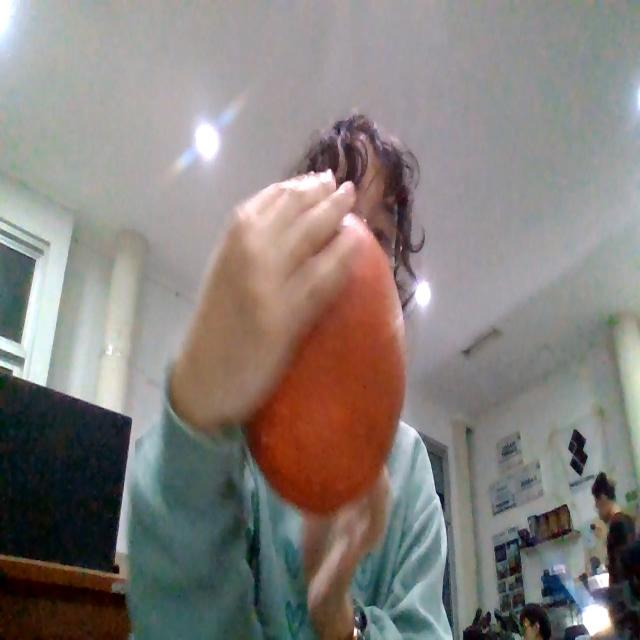ball: (244, 212, 403, 496)
